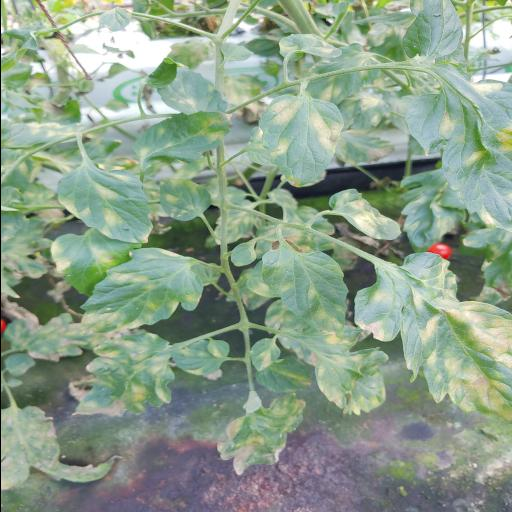disease_tomato: (352, 251, 512, 415), (78, 247, 222, 337), (70, 328, 174, 416), (256, 94, 344, 188), (260, 246, 348, 340), (56, 165, 153, 243), (215, 392, 306, 474), (313, 320, 388, 418), (48, 228, 141, 296), (132, 110, 232, 162), (326, 190, 400, 240)
